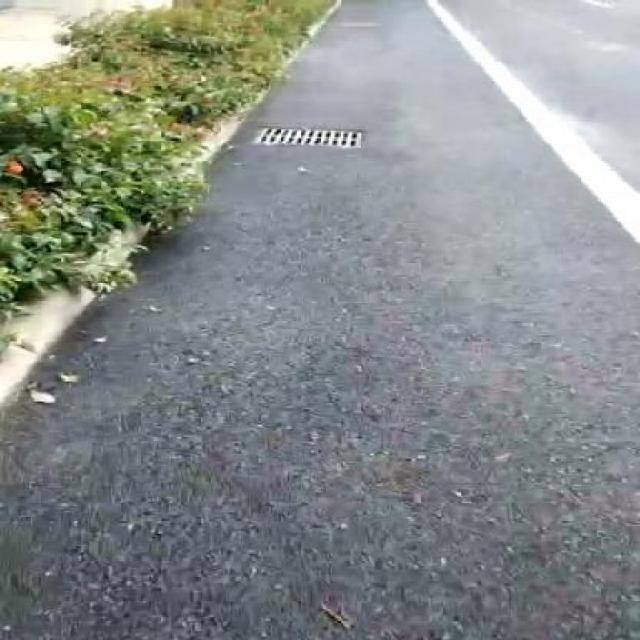Manhole: (247, 122, 364, 148)
